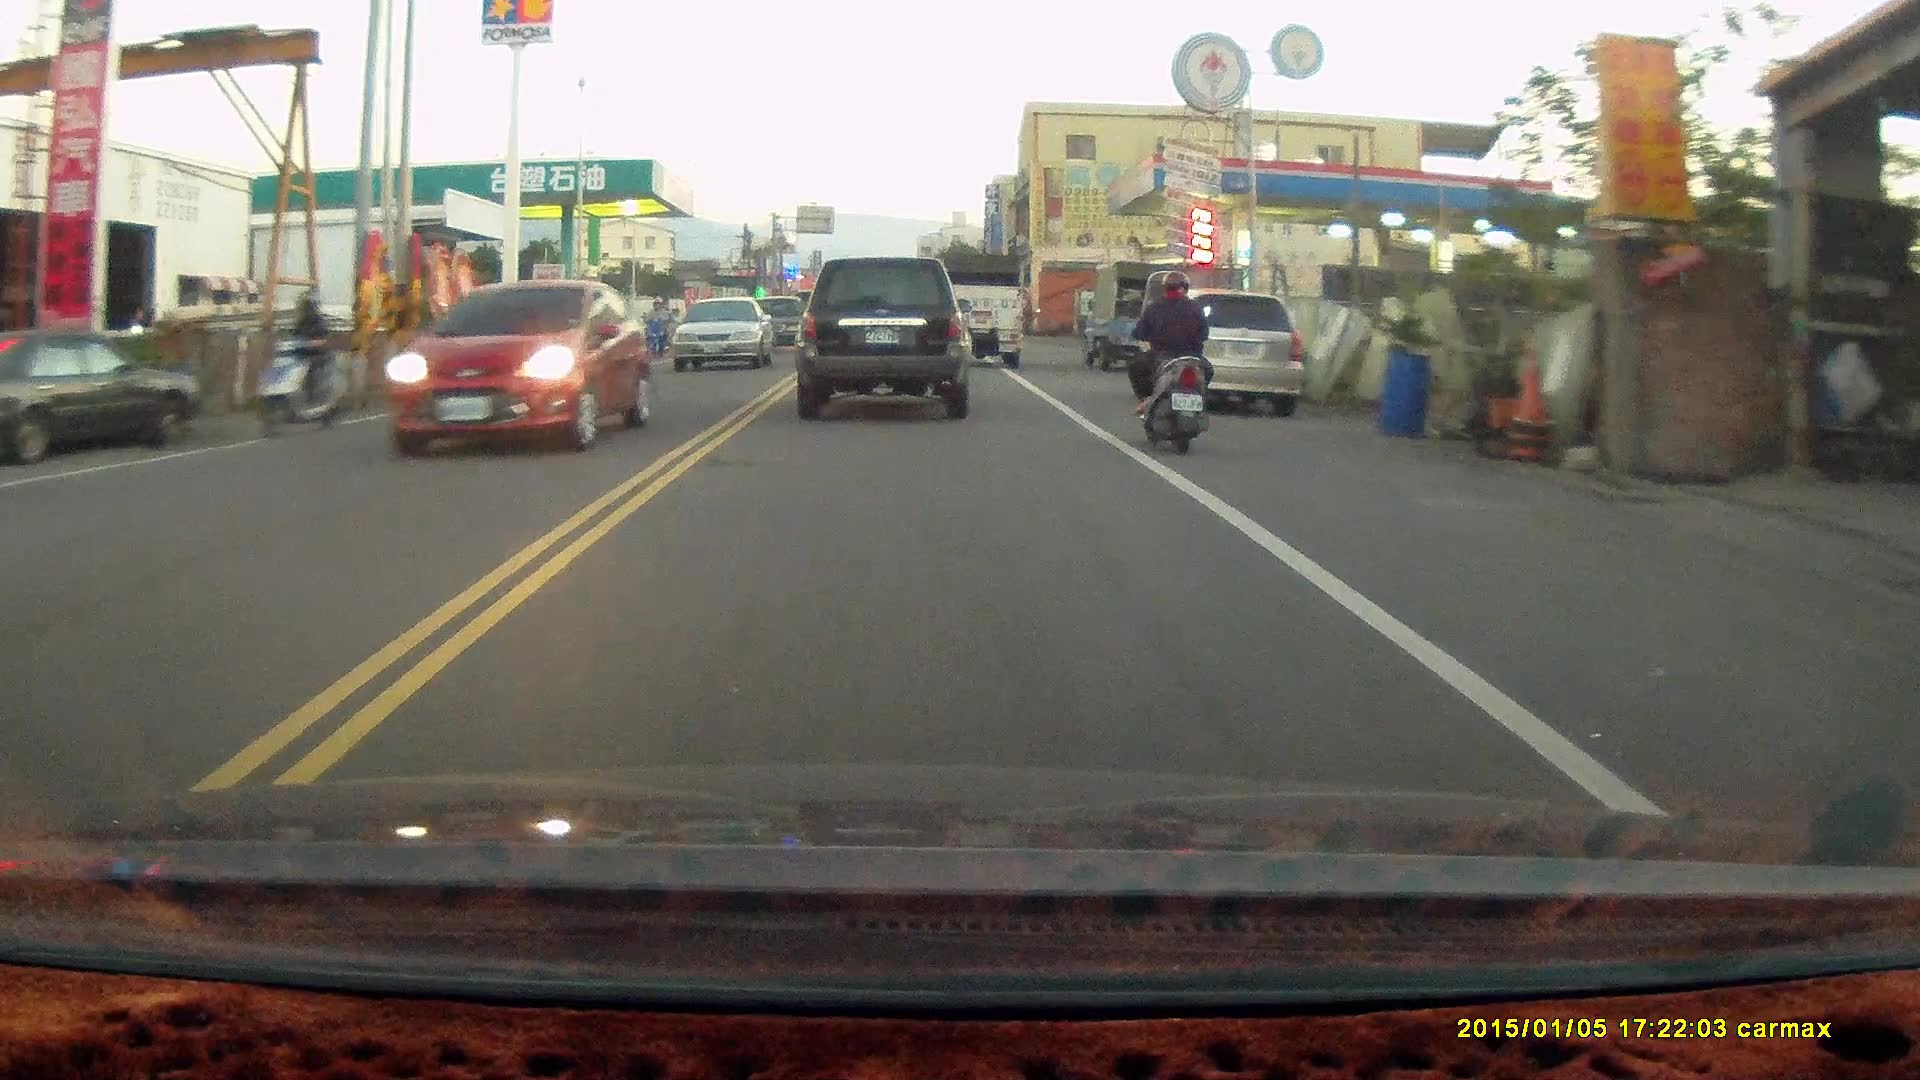rider: (1120, 269, 1217, 454), (236, 294, 349, 449), (638, 295, 674, 360)
vehicle: (386, 283, 647, 460), (793, 257, 968, 422), (1, 331, 207, 468), (426, 282, 605, 416), (1141, 292, 1307, 425), (934, 251, 1023, 370), (673, 294, 776, 371)
